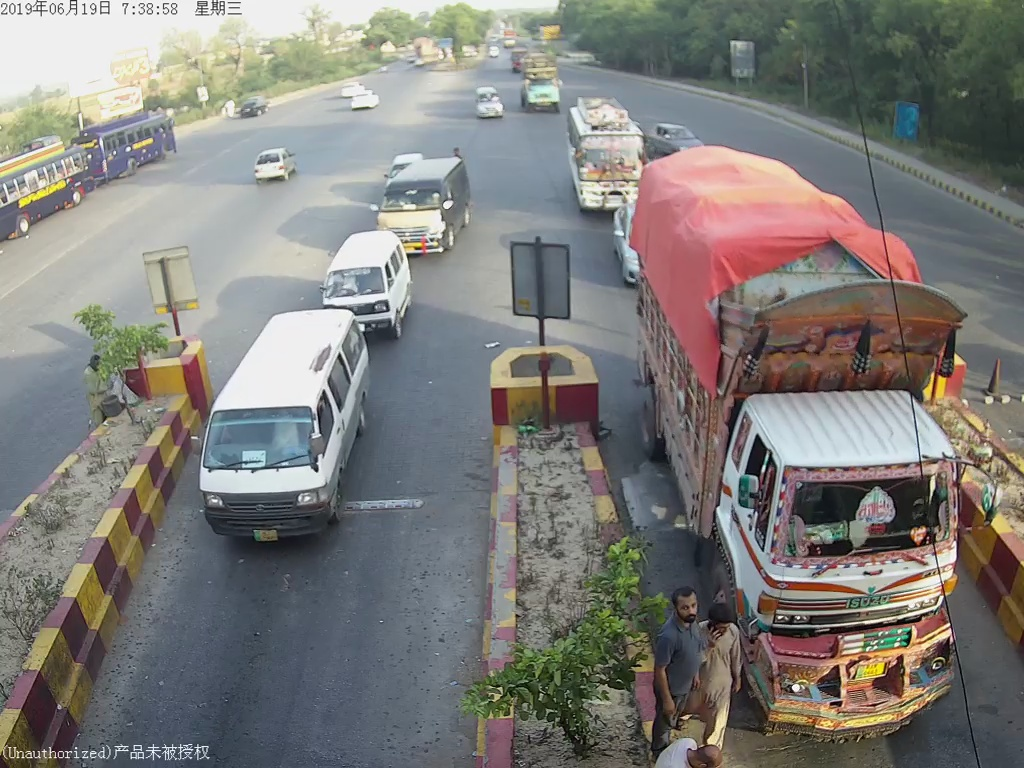Cat-1: (316, 224, 414, 334), (607, 201, 647, 286)
Cat-2: (196, 308, 372, 539), (379, 155, 476, 255)
Cat-3: (560, 102, 653, 211)
Cat-4: (650, 166, 983, 723), (516, 47, 564, 113)
